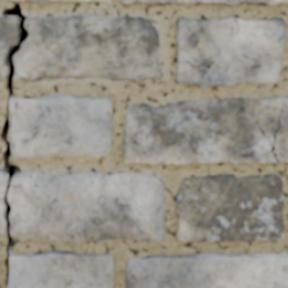brick: (123, 98, 287, 165), (176, 19, 286, 87), (176, 174, 285, 242), (10, 95, 112, 157), (126, 253, 287, 287), (8, 252, 113, 287), (122, 0, 287, 4), (9, 0, 98, 2)
broken_brick: (9, 171, 164, 243), (15, 16, 162, 83), (0, 17, 16, 79), (0, 169, 7, 236)
crack: (0, 2, 30, 285), (255, 107, 283, 163), (177, 61, 215, 68)
